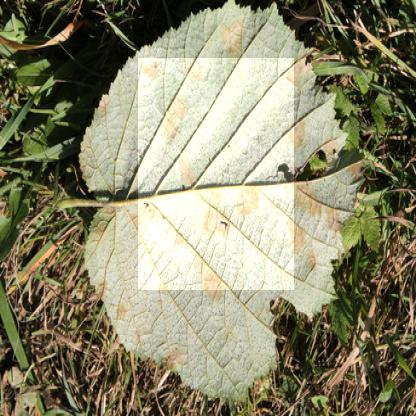black-spot: (138, 58, 294, 290)
